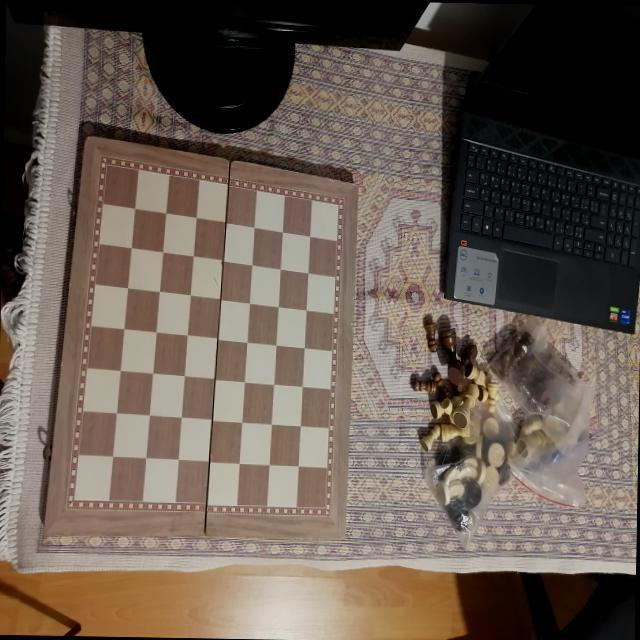corners: (32, 524, 54, 542), (345, 176, 365, 193), (334, 530, 351, 550), (82, 130, 100, 146)
